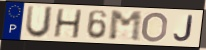6: (86, 9, 109, 40)
H: (52, 8, 84, 40)
J: (172, 14, 195, 43)
M: (109, 10, 144, 43)
O: (140, 11, 170, 43)
U: (23, 4, 55, 39)
